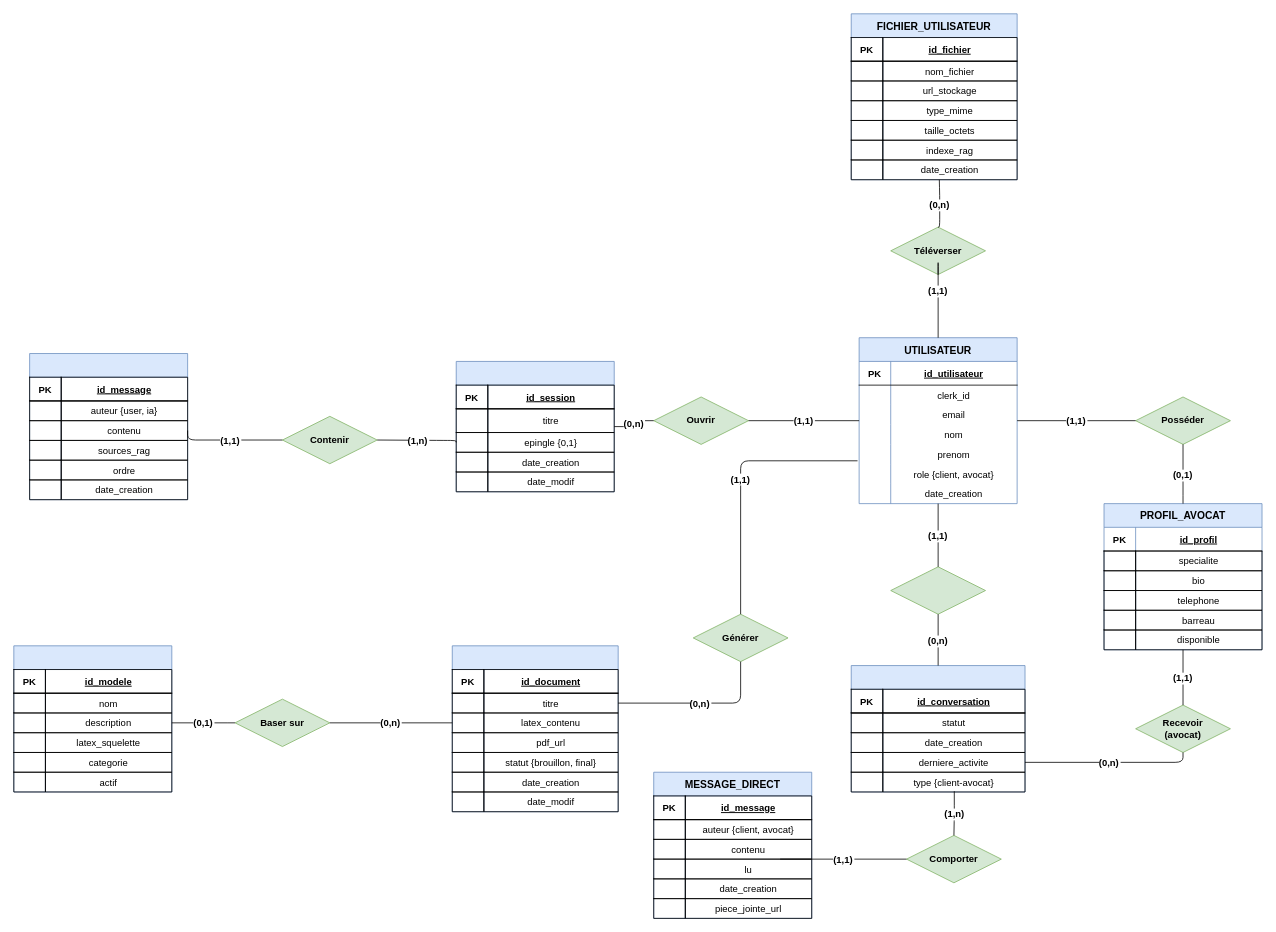
Some shapes in this 1276 by 932 pixel diagram are drawn without their labels. Here are the shapes that lost their labels. From the top down, the box of each, then its label:
(29, 353, 188, 500): MESSAGE_IA
(455, 361, 614, 492): SESSION_IA
(890, 566, 986, 614): Initier (client)
(13, 645, 172, 792): MODELE_JURIDIQUE
(451, 645, 618, 812): DOCUMENT_GENERE
(850, 665, 1025, 792): CONVERSATION_DIRECTE
